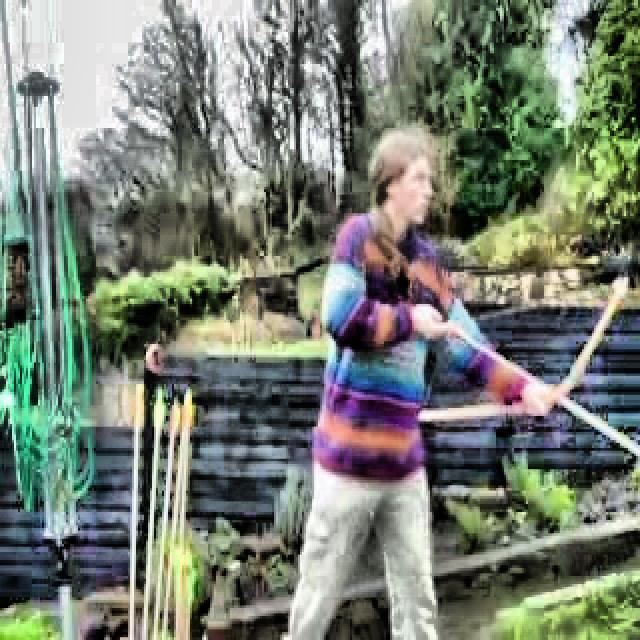I: (271, 102, 567, 640)
